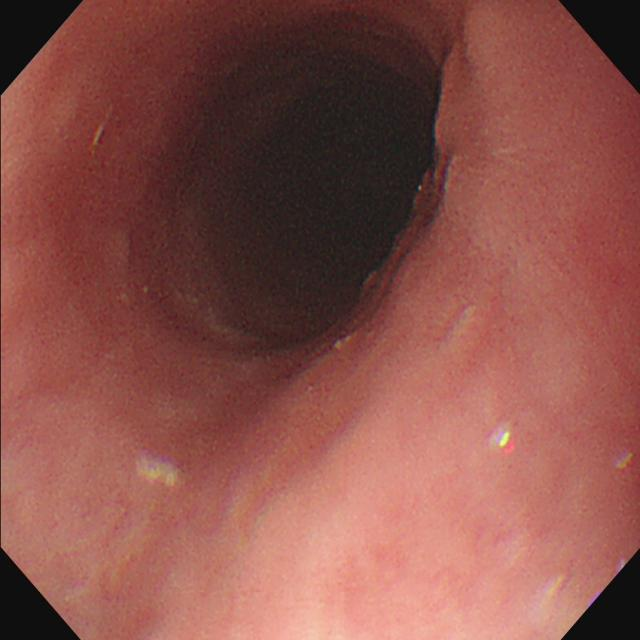E: (158, 27, 454, 359)
J: (136, 456, 181, 490)
